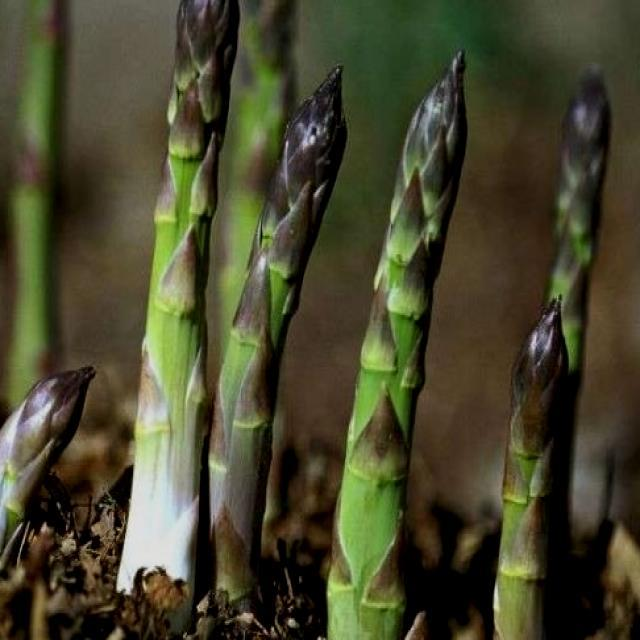aspargus: (324, 50, 467, 640)
